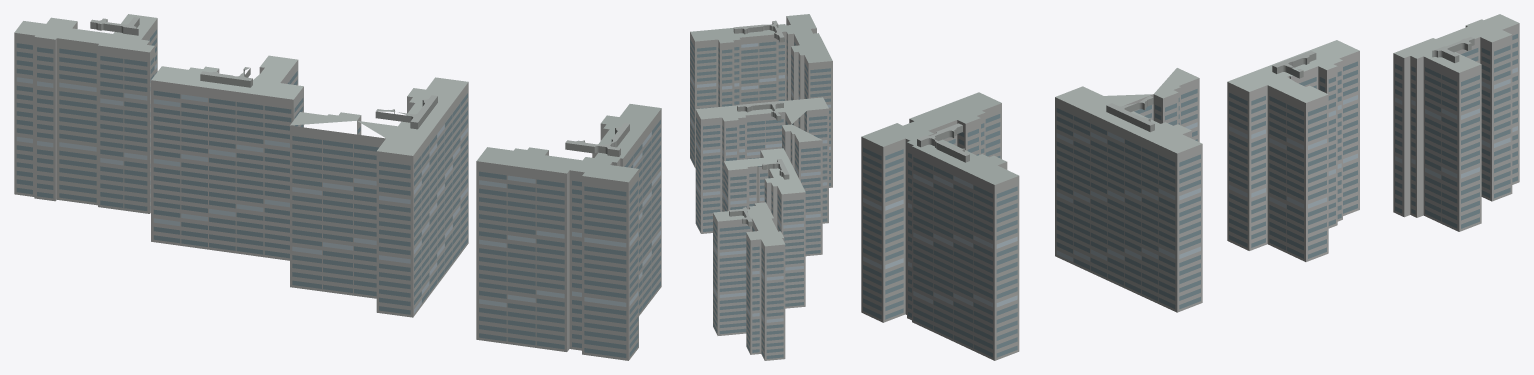
File: residual-five-completion-apt-a10025203.glb
3 views of the same model, side by side, from view 1: azimuth 30°, elevation 25°; view 2: azimuth 150°, elevation 25°; view 3: azimuth 270°, elevation 25° (orthographic). The views are drawn at different scales.
Parts seen in each view (by area): view 1: residual-five-completion-apt-a10025203; view 2: residual-five-completion-apt-a10025203; view 3: residual-five-completion-apt-a10025203.
Part boxes in pixels (bbox=[...]): residual-five-completion-apt-a10025203: bbox=[14, 14, 661, 360]; residual-five-completion-apt-a10025203: bbox=[690, 14, 832, 360]; residual-five-completion-apt-a10025203: bbox=[861, 14, 1519, 360].
Size of the model in its own units: 147 by 66.45 by 217.
